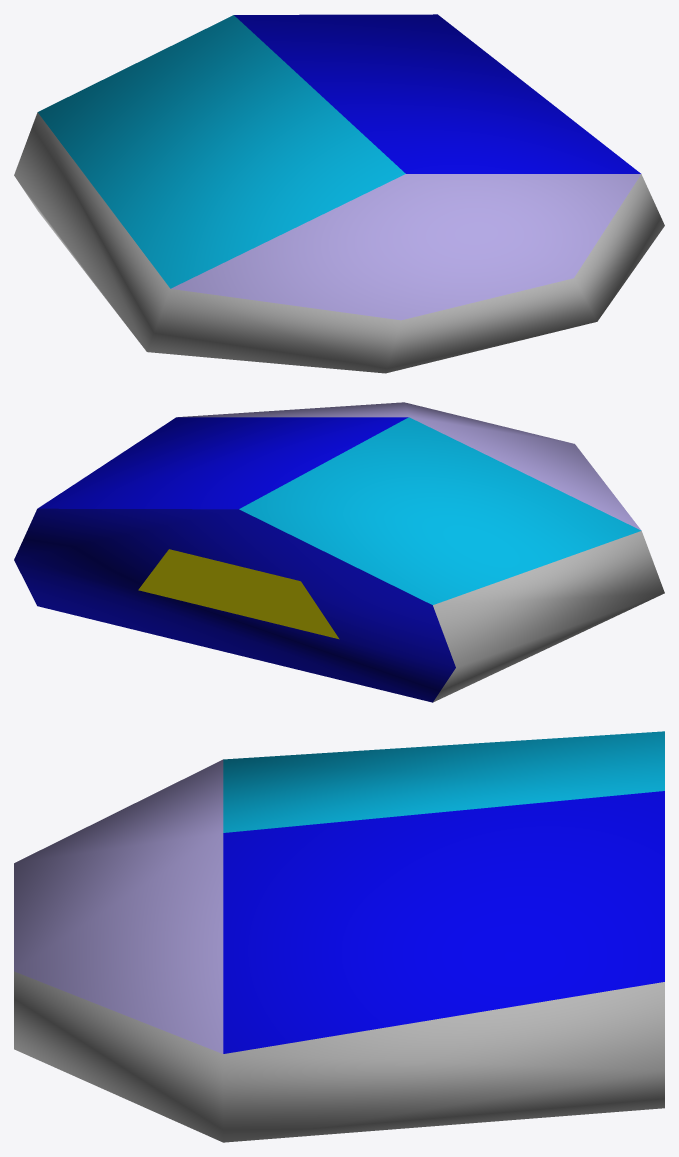
Rendered from transporter.fbx.
3 views of the same model, one above another, from view 1: azimuth 30°, elevation 25°; view 2: azimuth 150°, elevation 25°; view 3: azimuth 270°, elevation 25° (orthographic). The views are drawn at different scales.
Visible parts, largest first — view 1: transporter; view 2: transporter; view 3: transporter.
Boxes of the visible parts, x1,y1,x2,y2 form: transporter: [14, 14, 664, 373]; transporter: [14, 402, 664, 702]; transporter: [14, 731, 664, 1142].
Size of the model in its own units: 3.3 by 0.9085 by 2.8.
